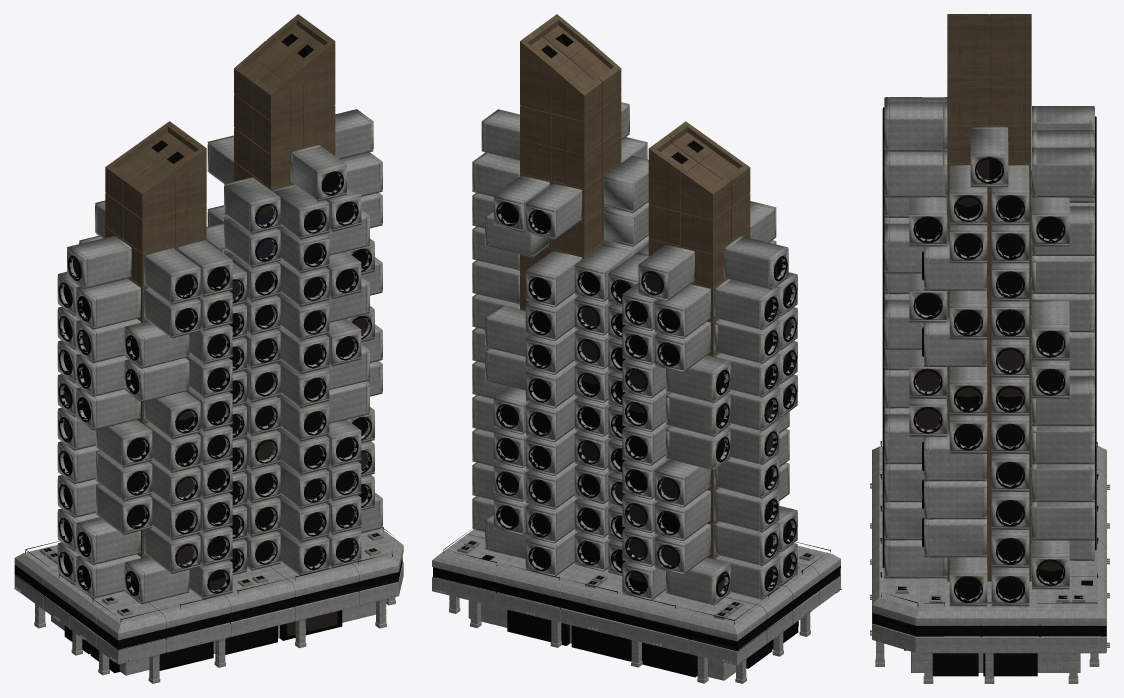
The picture shows the model from 3 angles, left to right: view 1: azimuth 30°, elevation 25°; view 2: azimuth 150°, elevation 25°; view 3: azimuth 270°, elevation 25°; orthographic projection. The views are drawn at different scales.
Visible parts, largest first — view 1: capsule; view 2: capsule; view 3: capsule.
Part boxes in pixels (x1=…): capsule: x1=14, y1=14, x2=403, y2=683; capsule: x1=432, y1=14, x2=841, y2=683; capsule: x1=870, y1=14, x2=1109, y2=683.
Size of the model in its own units: 26.01 by 45.76 by 15.45.
Materials: 5 (3 with a texture image).
